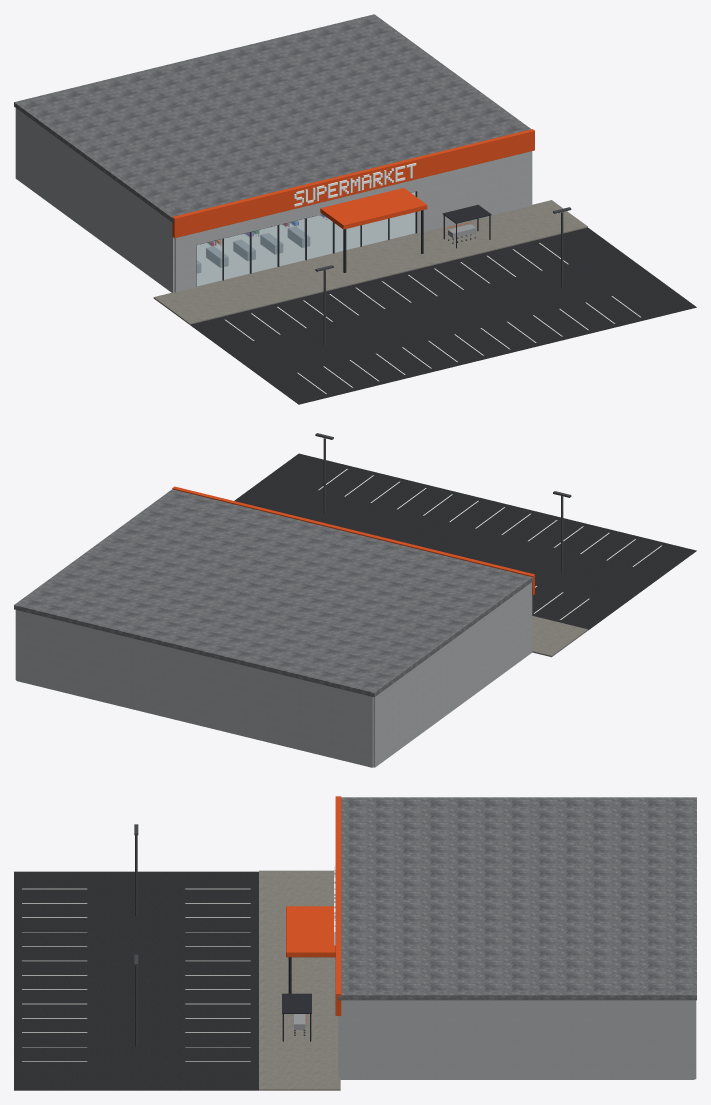
Rendered from a-realistic-supermarket-91560-realistic.glb.
The picture shows the model from 3 angles, top to bottom: view 1: azimuth 30°, elevation 25°; view 2: azimuth 150°, elevation 25°; view 3: azimuth 270°, elevation 25°; orthographic projection. The views are drawn at different scales.
Parts seen in each view (by area): view 1: shop; view 2: shop; view 3: shop.
Part boxes in pixels (box(x1,y1,x2,y2)): shop: box(14, 14, 696, 404); shop: box(14, 433, 696, 767); shop: box(14, 796, 696, 1090).
Size of the model in its own units: 38 by 7.07 by 50.2.
22 materials, 8 textured.
